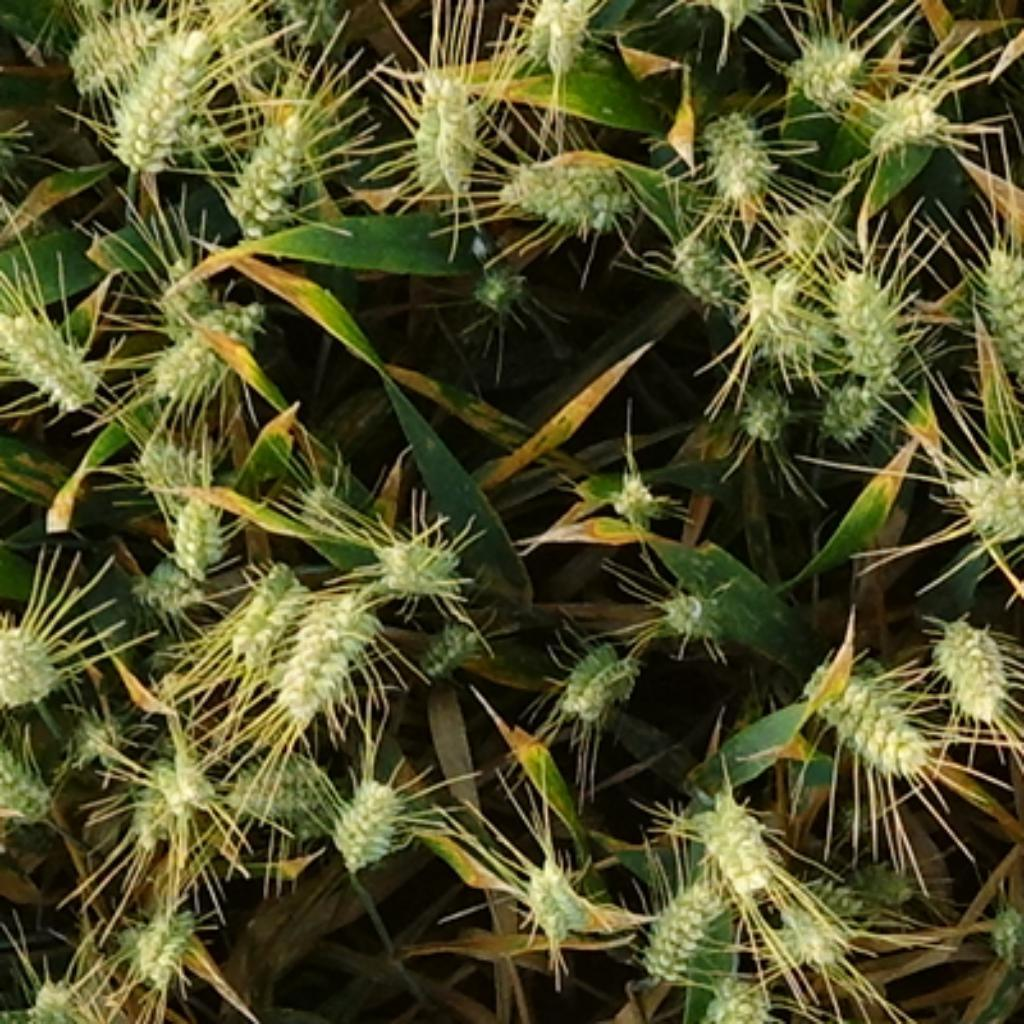0-0: (99, 15, 220, 168), (801, 647, 934, 773), (268, 576, 384, 711), (220, 92, 325, 232), (2, 286, 104, 404), (496, 133, 622, 227), (141, 309, 259, 406), (683, 778, 780, 888), (929, 601, 1016, 719), (634, 867, 729, 975), (826, 256, 911, 373), (154, 259, 231, 384), (61, 2, 171, 89), (220, 552, 307, 657), (227, 734, 332, 821), (552, 624, 645, 719), (696, 94, 778, 197), (734, 261, 824, 353), (944, 445, 1024, 545), (325, 765, 407, 862), (780, 17, 870, 102), (517, 844, 599, 936), (970, 232, 1024, 371), (117, 890, 199, 980), (435, 53, 488, 192), (366, 517, 465, 591), (143, 732, 217, 829), (125, 417, 220, 491), (860, 74, 949, 151), (663, 217, 742, 302), (120, 532, 204, 611), (2, 606, 66, 704), (824, 842, 916, 908), (814, 360, 893, 435), (161, 486, 230, 570), (773, 184, 857, 250), (698, 957, 778, 1024), (412, 58, 450, 197), (199, 0, 281, 60), (655, 573, 734, 634), (17, 962, 92, 1024), (58, 696, 128, 760), (2, 737, 58, 816), (732, 368, 796, 437), (463, 248, 529, 312), (414, 609, 483, 670), (782, 907, 852, 967), (601, 460, 668, 519), (550, 2, 599, 69), (296, 478, 350, 532), (514, 2, 563, 61), (980, 901, 1024, 965), (117, 798, 171, 847)
